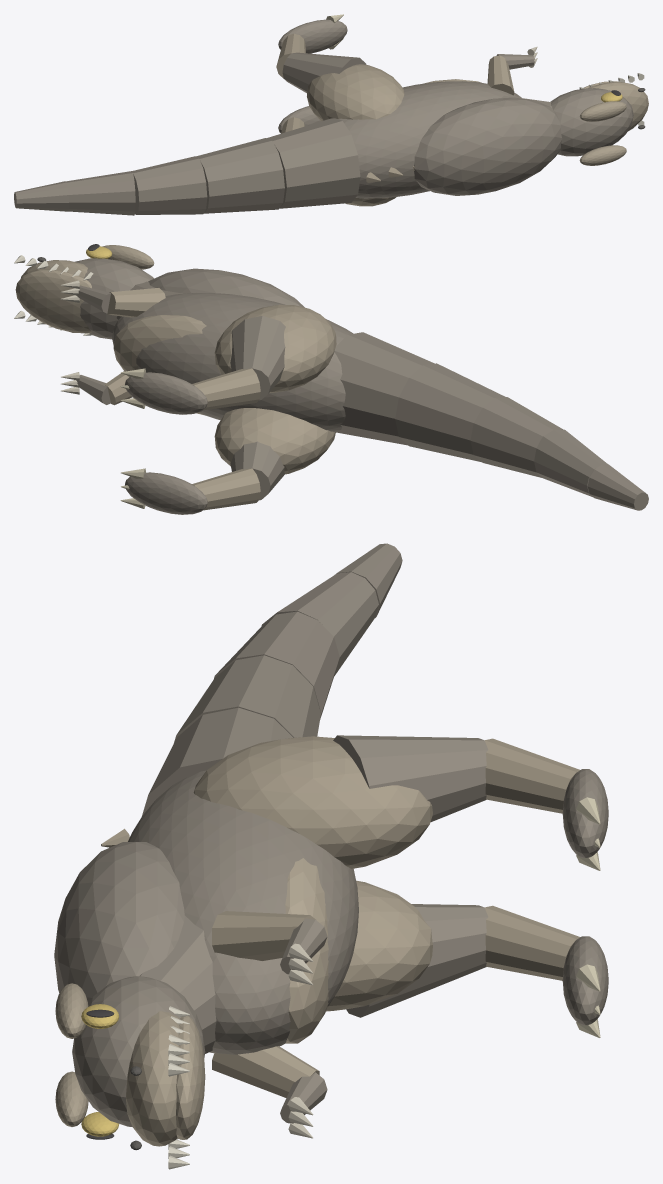
File: Torvosaurus.glb
The picture shows the model from 3 angles, top to bottom: view 1: azimuth 30°, elevation 25°; view 2: azimuth 150°, elevation 25°; view 3: azimuth 270°, elevation 25°; orthographic projection. The views are drawn at different scales.
Visible parts, largest first — view 1: Torvosaurus_071, Torvosaurus_000, Torvosaurus_007, Torvosaurus_008, Torvosaurus_034, Torvosaurus_009, Torvosaurus_003, Torvosaurus_010, Torvosaurus_035, Torvosaurus_037, Torvosaurus_011, Torvosaurus_004 (+7 smaller); view 2: Torvosaurus_000, Torvosaurus_008, Torvosaurus_007, Torvosaurus_012, Torvosaurus_034, Torvosaurus_009, Torvosaurus_005, Torvosaurus_035, Torvosaurus_010, Torvosaurus_071, Torvosaurus_001, Torvosaurus_003 (+12 smaller); view 3: Torvosaurus_000, Torvosaurus_034, Torvosaurus_071, Torvosaurus_035, Torvosaurus_003, Torvosaurus_012, Torvosaurus_008, Torvosaurus_004, Torvosaurus_007, Torvosaurus_013, Torvosaurus_009, Torvosaurus_014 (+14 smaller).
Part boxes in pixels (x1,y1,x2,y2): Torvosaurus_071: (414, 97, 562, 195); Torvosaurus_000: (323, 81, 521, 198); Torvosaurus_007: (267, 118, 360, 208); Torvosaurus_008: (196, 138, 284, 213); Torvosaurus_034: (307, 64, 404, 121); Torvosaurus_009: (132, 156, 207, 214); Torvosaurus_003: (550, 88, 633, 156); Torvosaurus_010: (66, 171, 135, 215); Torvosaurus_035: (282, 52, 366, 92); Torvosaurus_037: (278, 19, 347, 53); Torvosaurus_011: (14, 181, 68, 211); Torvosaurus_004: (588, 82, 648, 131); Torvosaurus_000: (112, 293, 353, 431); Torvosaurus_008: (395, 363, 505, 461); Torvosaurus_007: (334, 332, 434, 445); Torvosaurus_012: (214, 408, 335, 474); Torvosaurus_034: (214, 304, 336, 392); Torvosaurus_009: (470, 397, 562, 477); Torvosaurus_005: (15, 270, 91, 333); Torvosaurus_035: (230, 316, 285, 400); Torvosaurus_010: (534, 429, 607, 497); Torvosaurus_071: (148, 268, 304, 307); Torvosaurus_001: (113, 315, 206, 414); Torvosaurus_003: (74, 258, 153, 339); Torvosaurus_000: (128, 770, 358, 1054); Torvosaurus_034: (193, 736, 432, 868); Torvosaurus_071: (54, 842, 184, 1003); Torvosaurus_035: (333, 735, 488, 821); Torvosaurus_003: (72, 976, 205, 1126); Torvosaurus_012: (326, 880, 432, 1011); Torvosaurus_008: (174, 655, 320, 742); Torvosaurus_004: (126, 1011, 179, 1146); Torvosaurus_007: (141, 707, 293, 816); Torvosaurus_013: (346, 904, 488, 1017); Torvosaurus_009: (214, 611, 339, 719); Torvosaurus_014: (484, 905, 580, 980).
Size of the model in its own units: 9.64 by 2.18 by 4.01.
